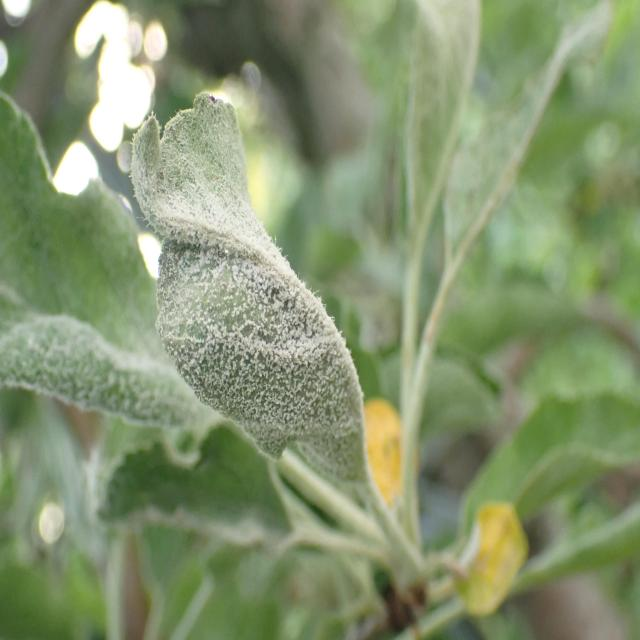Powdery_mildew: (0, 62, 338, 558), (132, 74, 378, 496)
